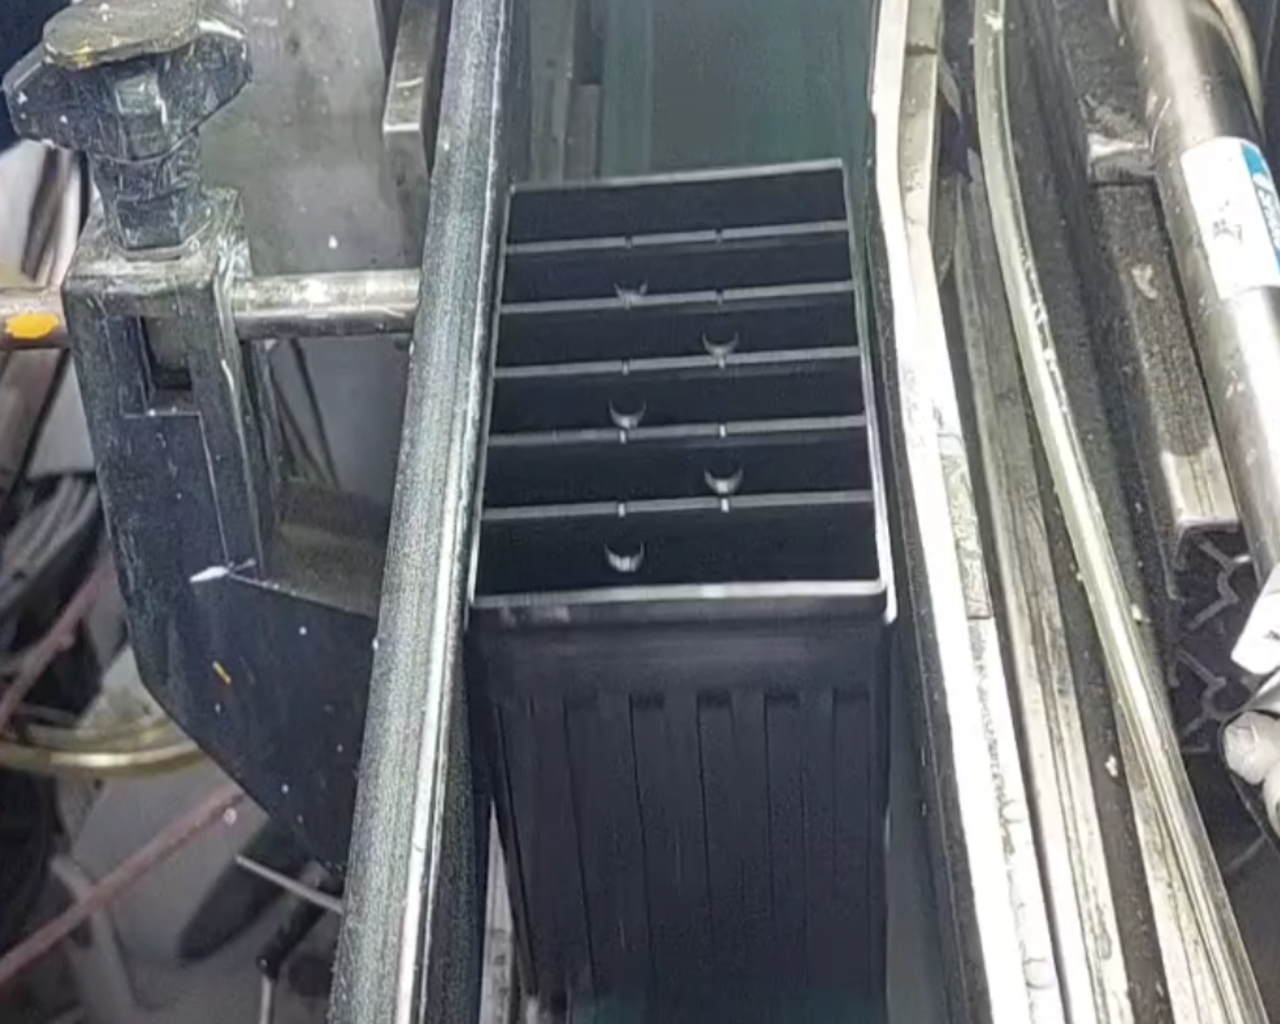box: (447, 137, 927, 649)
round: (681, 439, 759, 507), (583, 514, 661, 581), (592, 372, 657, 435), (594, 255, 659, 310), (687, 310, 748, 364)
